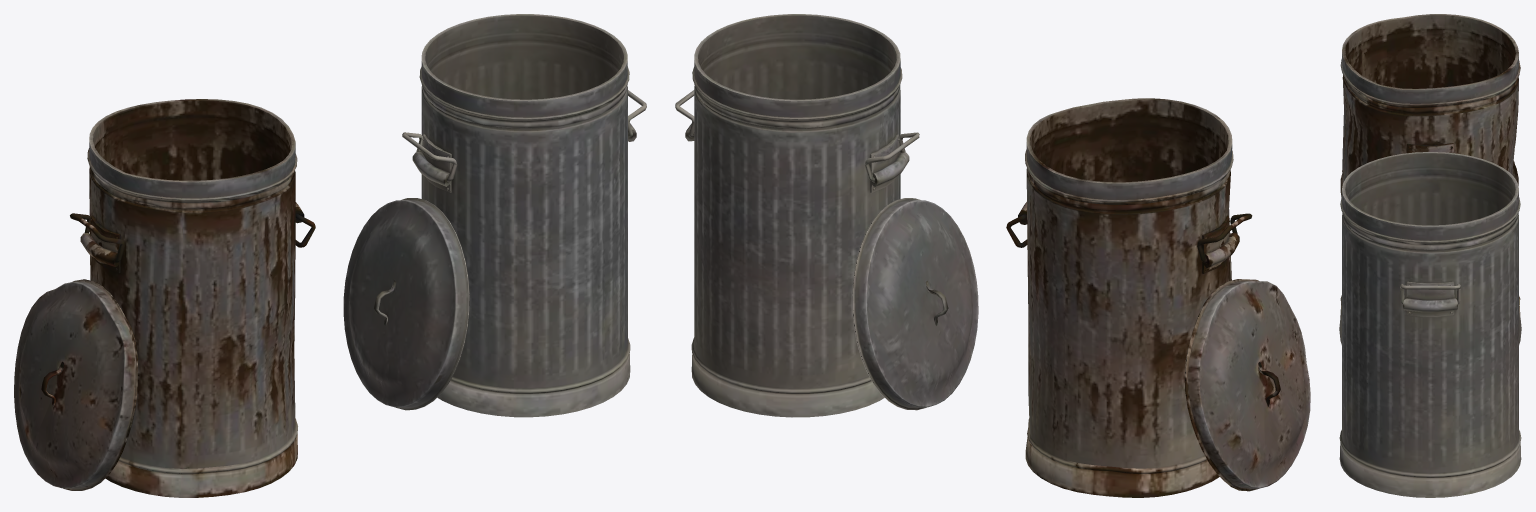
File: metal_trash_can.glb
3 renders of one model, left to right at view 1: azimuth 30°, elevation 25°; view 2: azimuth 150°, elevation 25°; view 3: azimuth 270°, elevation 25°, orthographic. The views are drawn at different scales.
Parts seen in each view (by area): view 1: metal_trash_can_handle_left, metal_trash_can_rust; view 2: metal_trash_can_handle_left, metal_trash_can_rust; view 3: metal_trash_can_handle_left, metal_trash_can_rust.
Boxes of the visible parts, box(x1,y1,x2,y2) form: metal_trash_can_handle_left: box(343, 14, 646, 417); metal_trash_can_rust: box(14, 99, 315, 497); metal_trash_can_handle_left: box(675, 14, 978, 417); metal_trash_can_rust: box(1006, 98, 1310, 497); metal_trash_can_handle_left: box(1339, 152, 1521, 497); metal_trash_can_rust: box(1340, 14, 1520, 317).
Size of the model in its own units: 1.78 by 0.9062 by 0.5543.
Materials: 2 (2 with a texture image).
